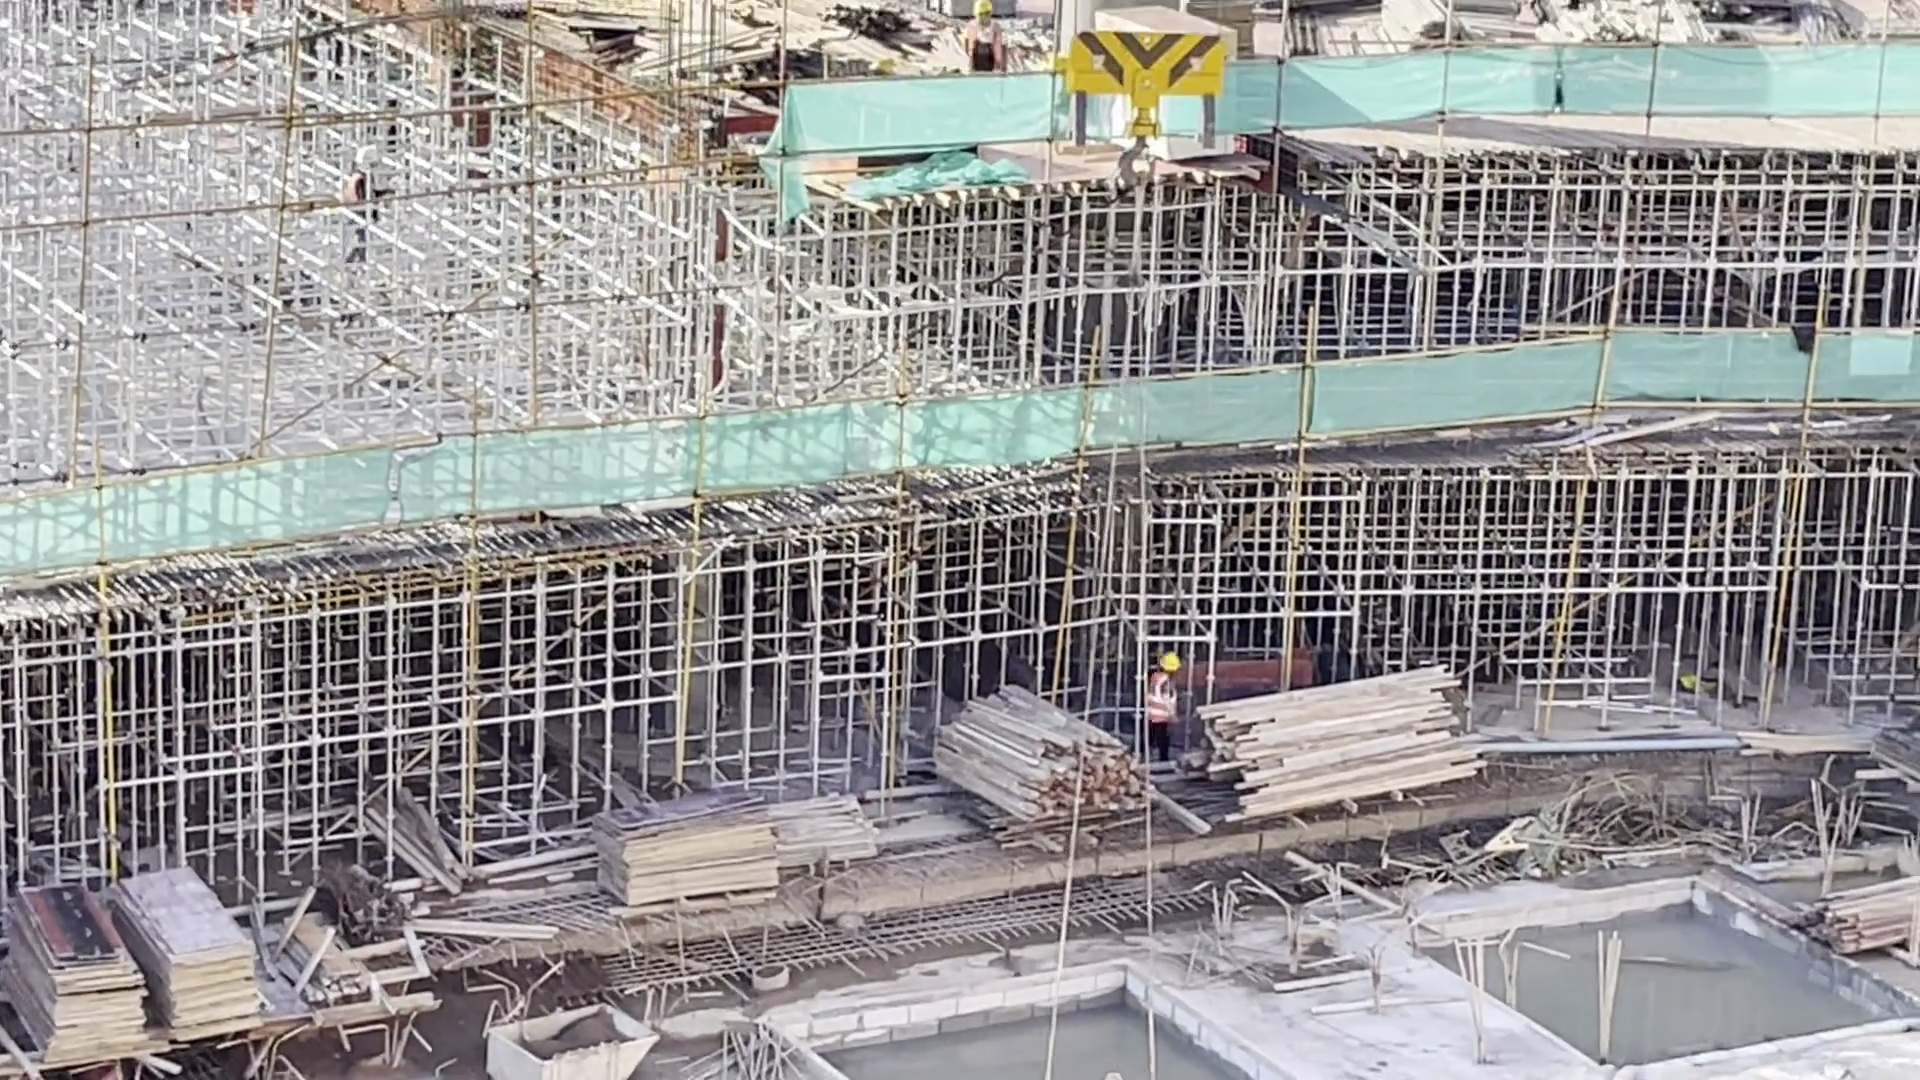board: (7, 882, 156, 1065), (117, 867, 269, 1043), (586, 797, 786, 912)
helmet: (353, 145, 381, 166), (1159, 652, 1183, 673), (973, 1, 998, 17)
hook: (1045, 31, 1234, 209)
hopper: (487, 1000, 651, 1080)
person: (955, 1, 1010, 71), (1149, 648, 1183, 759), (343, 144, 396, 203)
vest: (1149, 672, 1177, 728)
wood: (1201, 665, 1485, 828), (941, 687, 1151, 832), (1787, 867, 1920, 963)
